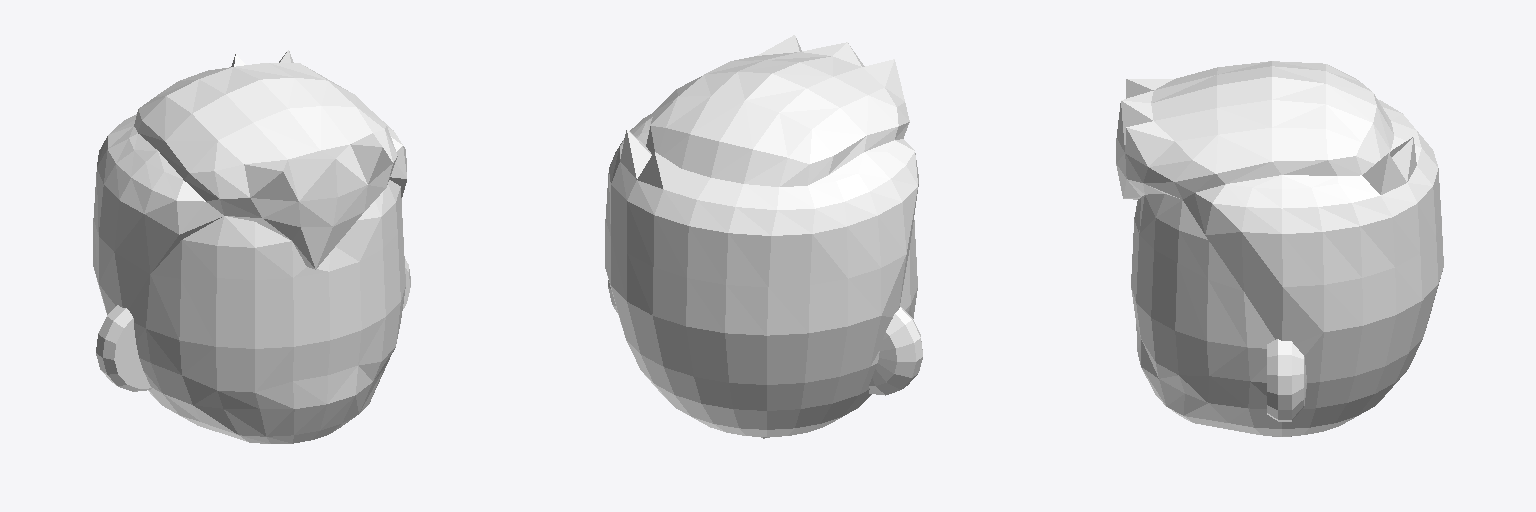
File: ActionFigure_Head_C.obj
3 renders of one model, left to right at view 1: azimuth 30°, elevation 25°; view 2: azimuth 150°, elevation 25°; view 3: azimuth 270°, elevation 25°, orthographic.
Parts seen in each view (by area): view 1: ActionFigure_Head_C; view 2: ActionFigure_Head_C; view 3: ActionFigure_Head_C.
Part boxes in pixels (x1,y1,x2,y2): ActionFigure_Head_C: (93, 50, 410, 443); ActionFigure_Head_C: (605, 35, 922, 438); ActionFigure_Head_C: (1116, 61, 1443, 436).
Size of the model in its own units: 1.09 by 1.2 by 0.9985.